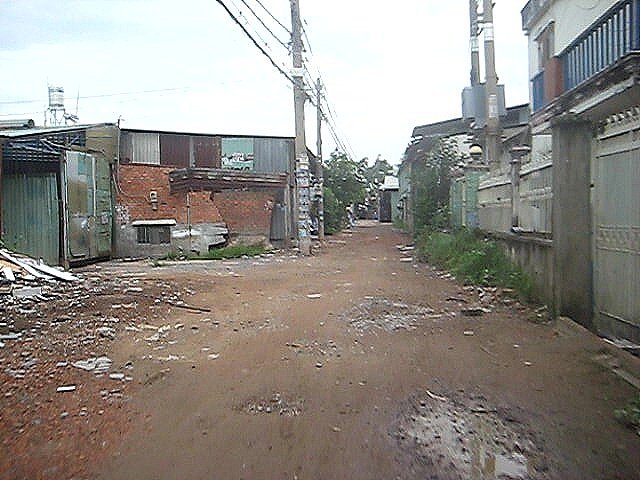hole: (386, 378, 560, 480), (334, 286, 457, 334), (230, 383, 311, 421), (282, 334, 341, 365)
